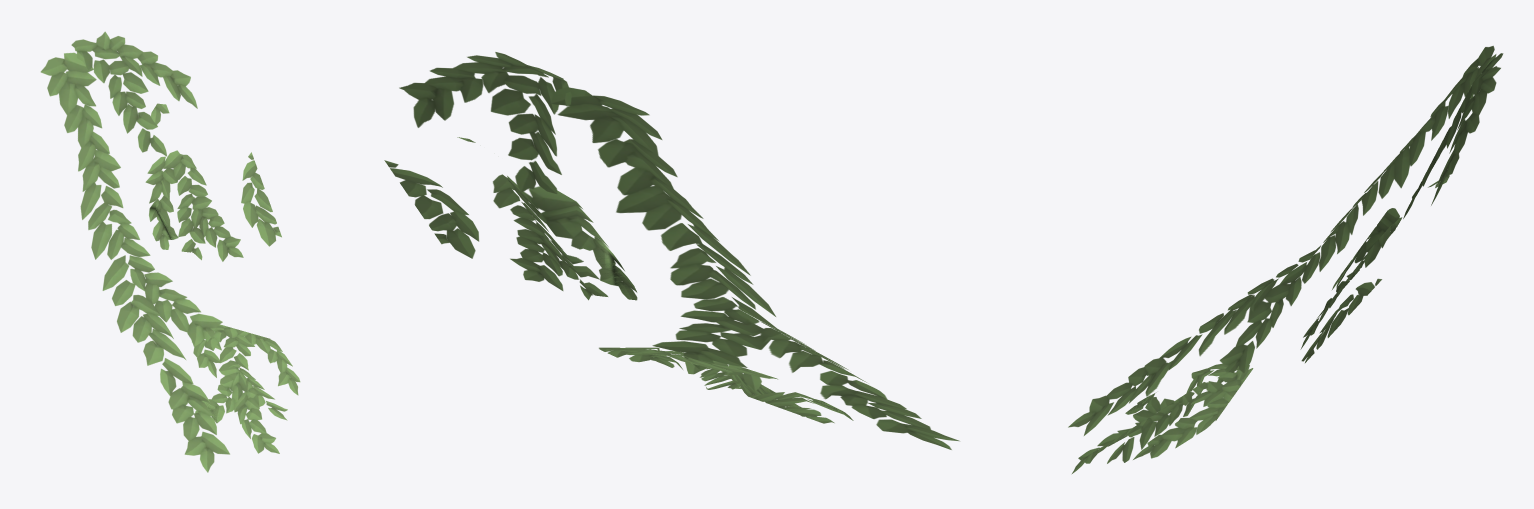
The model's file is elven_SM_Env_Vines_Preset_Roof_Concave_05.gltf.
3 views of the same model, side by side, from view 1: azimuth 30°, elevation 25°; view 2: azimuth 150°, elevation 25°; view 3: azimuth 270°, elevation 25° (orthographic). The views are drawn at different scales.
Visible parts, largest first — view 1: SM_Env_Vines_Preset_Roof_Concave_05; view 2: SM_Env_Vines_Preset_Roof_Concave_05; view 3: SM_Env_Vines_Preset_Roof_Concave_05.
Part boxes in pixels (x1=…): SM_Env_Vines_Preset_Roof_Concave_05: x1=40, y1=31, x2=300, y2=472; SM_Env_Vines_Preset_Roof_Concave_05: x1=384, y1=52, x2=959, y2=449; SM_Env_Vines_Preset_Roof_Concave_05: x1=1068, y1=45, x2=1503, y2=474.
Bounding box in the file's own units: 1.26 × 2.06 × 2.07.
Materials: 2 (2 with a texture image).
